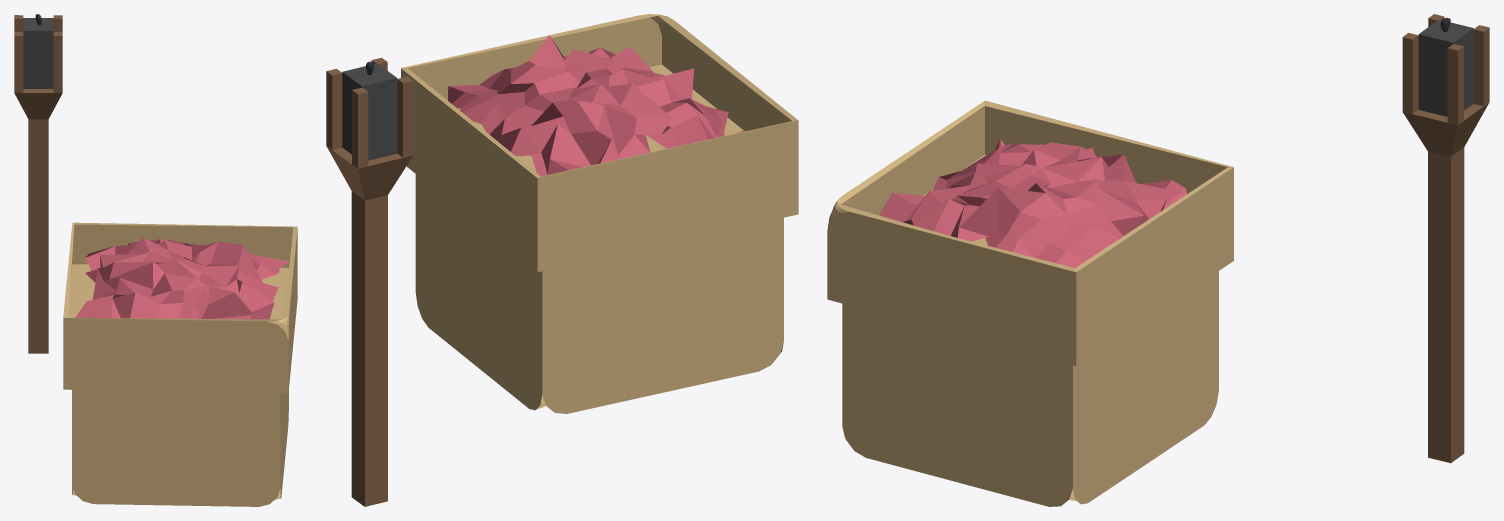
File: fiaccola.fbx
The picture shows the model from 3 angles, left to right: view 1: azimuth 30°, elevation 25°; view 2: azimuth 150°, elevation 25°; view 3: azimuth 270°, elevation 25°; orthographic projection. The views are drawn at different scales.
Visible parts, largest first — view 1: base scatola, Plane.001, base, Cube.001; view 2: base scatola, Plane.001, base, Cube.001; view 3: base scatola, Plane.001, base, Cube.001.
Boxes of the visible parts, x1,y1,x2,y2 form: base scatola: (63, 222, 297, 506); Plane.001: (75, 237, 289, 319); base: (14, 15, 62, 353); Cube.001: (23, 18, 53, 88); base scatola: (401, 14, 798, 413); Plane.001: (448, 35, 743, 176); base: (326, 57, 413, 506); Cube.001: (342, 63, 397, 160); base scatola: (827, 100, 1233, 506); Plane.001: (879, 139, 1186, 267); base: (1402, 14, 1489, 463); Cube.001: (1418, 19, 1473, 116).
Bounding box in the file's own units: 263 × 312 × 428.
